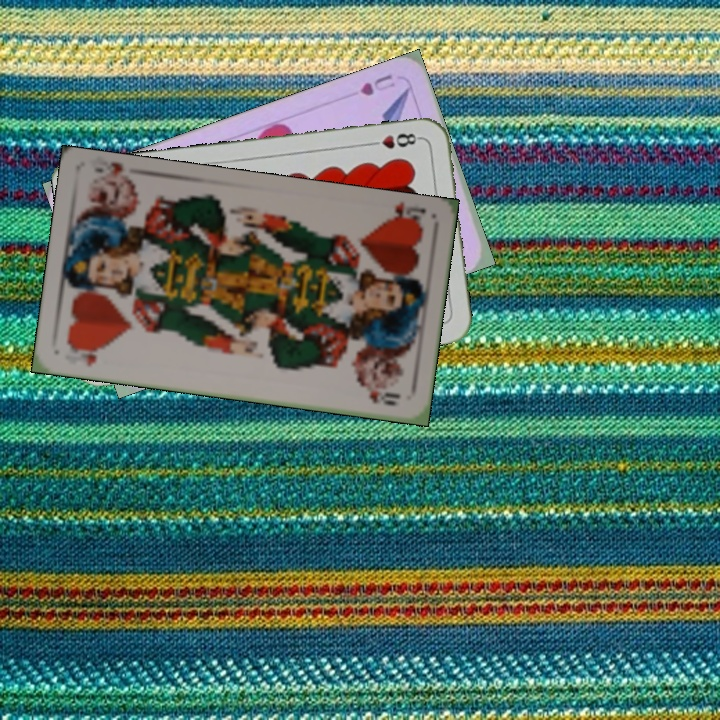H8: (364, 129, 423, 152)
HO: (377, 199, 429, 229), (60, 341, 109, 369)
HU: (355, 70, 398, 99)
